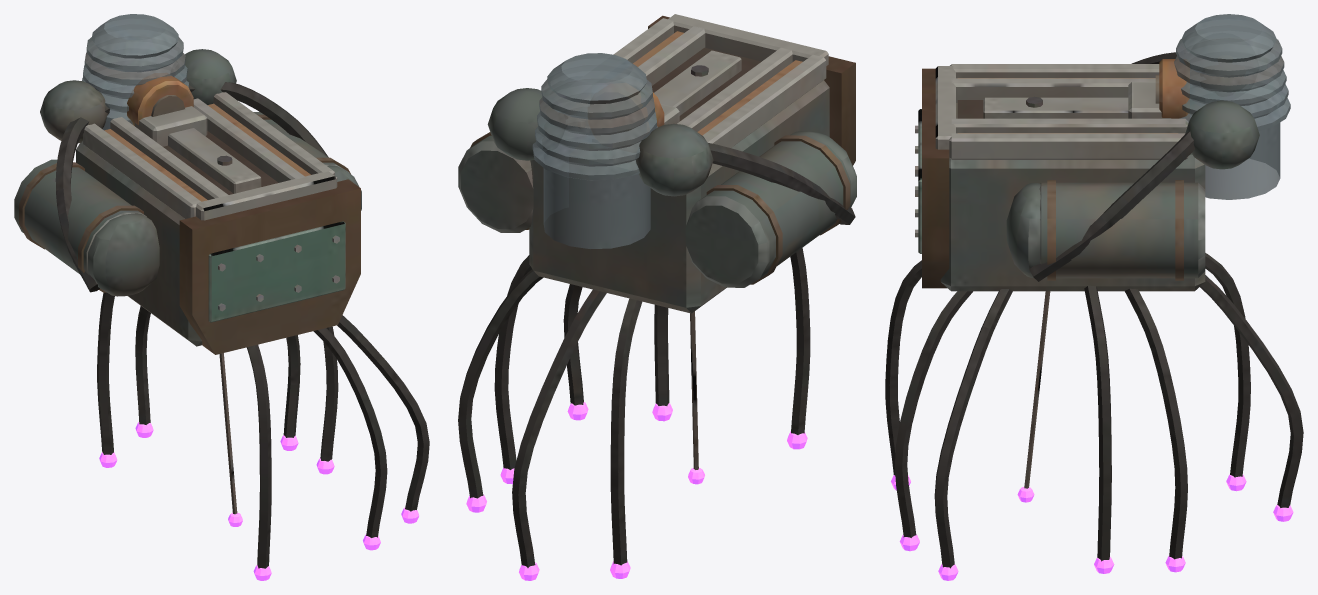
File: capture-robot.glb
3 views of the same model, side by side, from view 1: azimuth 30°, elevation 25°; view 2: azimuth 150°, elevation 25°; view 3: azimuth 270°, elevation 25° (orthographic). The views are drawn at different scales.
Parts seen in each view (by area): view 1: body, anim_cable, anim_cable.001, anim_cable.002, anim_cable.006, anim_cable.003, anim_cable.005, anim_cable.004, anim_cable.007; view 2: body, anim_cable.005, anim_cable.006, anim_cable.004, anim_cable, anim_cable.003, anim_cable.001, anim_cable.002, anim_cable.007; view 3: body, anim_cable.002, anim_cable.004, anim_cable.003, anim_cable.005, anim_cable.001, anim_cable.006, anim_cable, anim_cable.007.
Boxes of the visible parts, <box> form: body: <box>14,14,361,354</box>; anim_cable: <box>246,344,271,580</box>; anim_cable.001: <box>313,328,387,550</box>; anim_cable.002: <box>337,315,429,523</box>; anim_cable.006: <box>97,292,117,467</box>; anim_cable.003: <box>316,326,338,474</box>; anim_cable.005: <box>135,306,153,437</box>; anim_cable.004: <box>280,335,300,450</box>; anim_cable.007: <box>219,353,242,526</box>; body: <box>458,14,856,313</box>; anim_cable.005: <box>512,289,606,580</box>; anim_cable.006: <box>610,298,642,578</box>; anim_cable.004: <box>458,269,543,512</box>; anim_cable: <box>787,248,810,449</box>; anim_cable.003: <box>494,255,531,484</box>; anim_cable.001: <box>652,304,672,421</box>; anim_cable.002: <box>563,284,588,420</box>; anim_cable.007: <box>688,311,704,484</box>; body: <box>915,14,1290,291</box>; anim_cable.002: <box>934,289,1012,580</box>; anim_cable.004: <box>1124,288,1187,572</box>; anim_cable.003: <box>1084,285,1114,573</box>; anim_cable.005: <box>1200,275,1303,521</box>; anim_cable.001: <box>894,291,972,551</box>; anim_cable.006: <box>1205,253,1250,491</box>; anim_cable: <box>885,260,921,490</box>; anim_cable.007: <box>1017,291,1050,502</box>.
Bounding box in the file's own units: 2.19 × 3.09 × 2.45.
3 materials, 3 textured.
